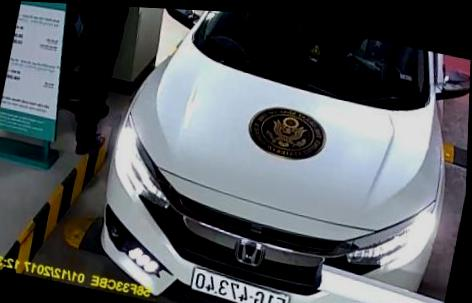License_Plate: (181, 265, 304, 303)
